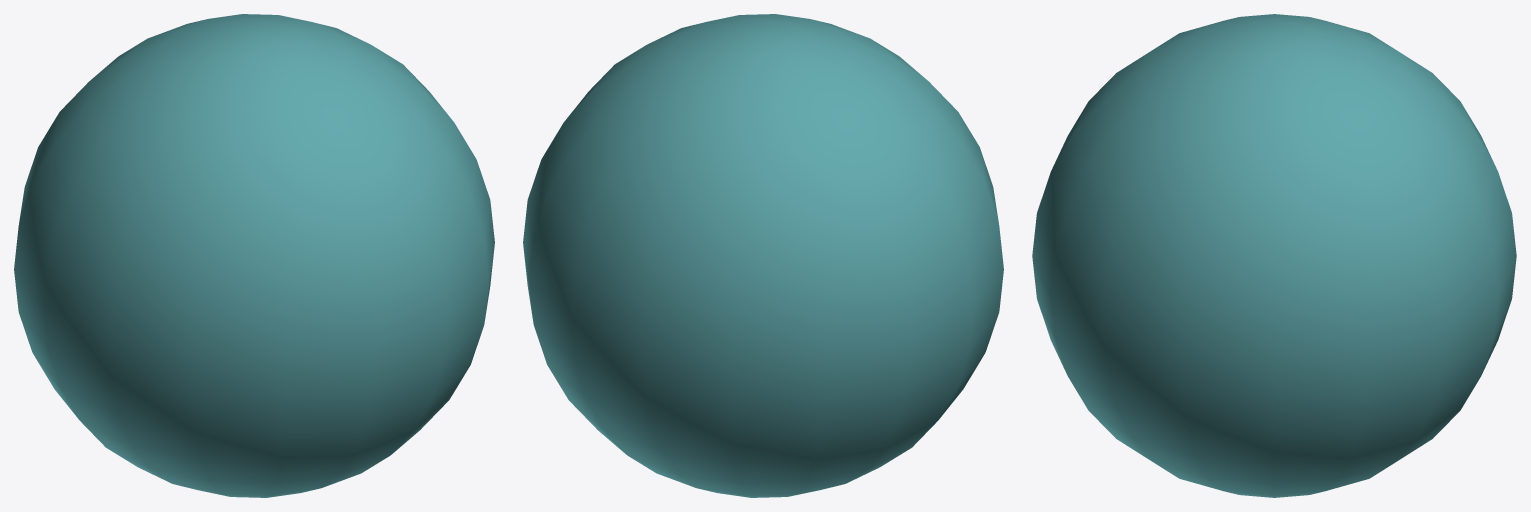
Rendered from MarbleBubbles01_Ben.fbx.
3 views of the same model, side by side, from view 1: azimuth 30°, elevation 25°; view 2: azimuth 150°, elevation 25°; view 3: azimuth 270°, elevation 25° (orthographic).
Parts seen in each view (by area): view 1: MarbleBubbles; view 2: MarbleBubbles; view 3: MarbleBubbles.
Boxes of the visible parts, x1,y1,x2,y2 form: MarbleBubbles: (14, 14, 494, 497); MarbleBubbles: (523, 14, 1003, 497); MarbleBubbles: (1032, 14, 1516, 497).
Bounding box in the file's own units: 4 × 4 × 4.
